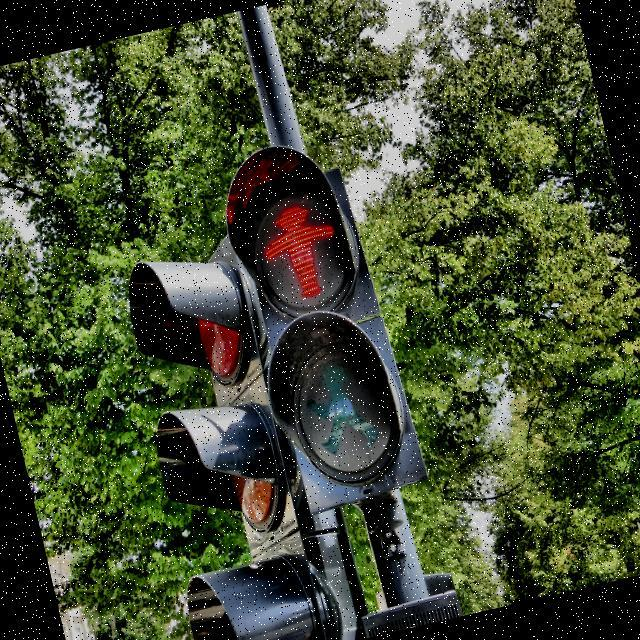red_light: (252, 192, 352, 310)
